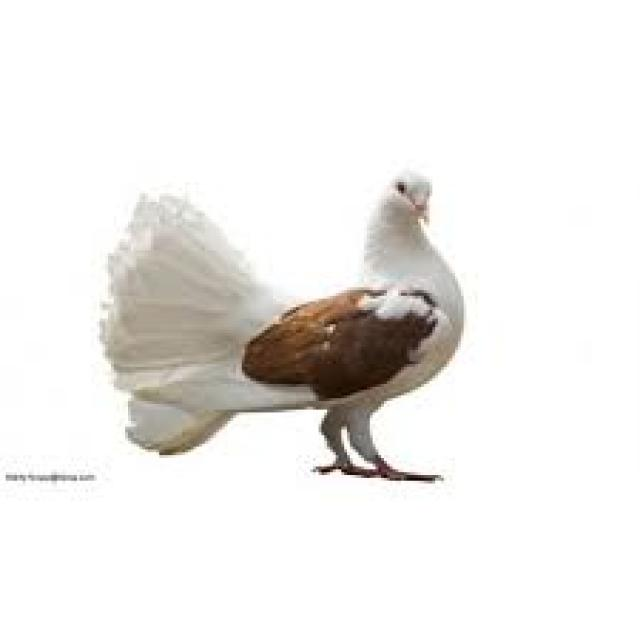pigeon: (92, 142, 491, 502)
